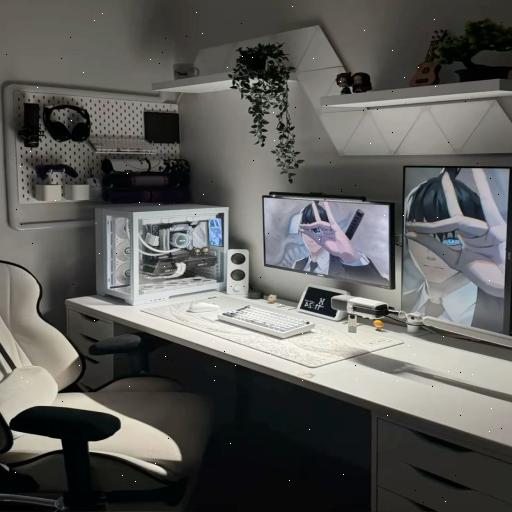computer case: (97, 201, 227, 301)
monitor: (402, 167, 512, 334), (263, 194, 394, 288)
